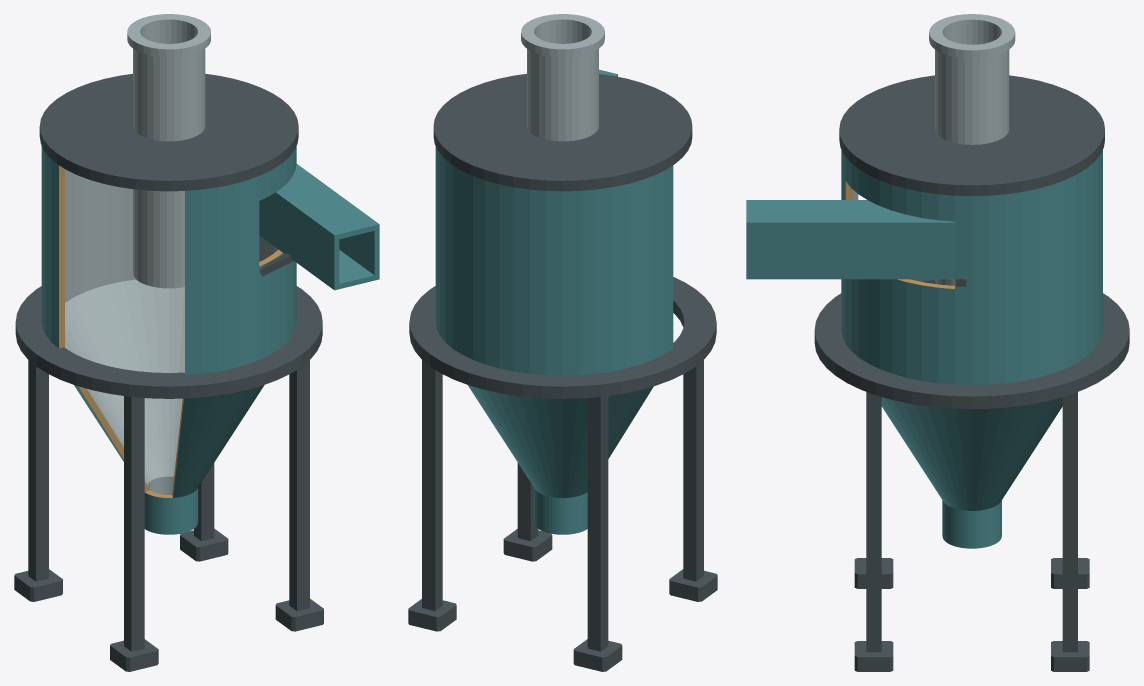
The picture shows the model from 3 angles, left to right: view 1: azimuth 30°, elevation 25°; view 2: azimuth 150°, elevation 25°; view 3: azimuth 270°, elevation 25°; orthographic projection. The views are drawn at different scales.
Visible parts, largest first — view 1: WholeCutawayCylinderConeAndLowerNeck, WholeAnnularTopPlate, WholeDeepAxialOutletTube, WholeAnnularLegBearingCollar, WholeOffsetRectangularInlet, WholeSupportLeg_0, WholeSupportLeg_1, WholeSupportLeg_3, WholeSupportLeg_2, WholeGroundFoot_0, WholeGroundFoot_1, WholeGroundFoot_2 (+1 smaller); view 2: WholeCutawayCylinderConeAndLowerNeck, WholeAnnularTopPlate, WholeAnnularLegBearingCollar, WholeDeepAxialOutletTube, WholeSupportLeg_3, WholeSupportLeg_2, WholeSupportLeg_0, WholeSupportLeg_1, WholeGroundFoot_3, WholeGroundFoot_1, WholeGroundFoot_0, WholeGroundFoot_2; view 3: WholeCutawayCylinderConeAndLowerNeck, WholeAnnularTopPlate, WholeOffsetRectangularInlet, WholeAnnularLegBearingCollar, WholeDeepAxialOutletTube, WholeSupportLeg_1, WholeSupportLeg_2, WholeGroundFoot_1, WholeGroundFoot_2, WholeGroundFoot_0, WholeGroundFoot_3.
Part boxes in pixels (bbox=[...]): WholeCutawayCylinderConeAndLowerNeck: bbox=[41, 146, 296, 534]; WholeAnnularTopPlate: bbox=[39, 73, 298, 191]; WholeDeepAxialOutletTube: bbox=[127, 14, 210, 288]; WholeAnnularLegBearingCollar: bbox=[15, 286, 322, 398]; WholeOffsetRectangularInlet: bbox=[259, 164, 379, 290]; WholeSupportLeg_0: bbox=[124, 396, 144, 651]; WholeSupportLeg_1: bbox=[289, 360, 309, 610]; WholeSupportLeg_3: bbox=[28, 360, 48, 581]; WholeSupportLeg_2: bbox=[194, 463, 214, 541]; WholeGroundFoot_0: bbox=[110, 639, 158, 671]; WholeGroundFoot_1: bbox=[275, 599, 323, 631]; WholeGroundFoot_2: bbox=[180, 528, 228, 561]; WholeCutawayCylinderConeAndLowerNeck: bbox=[435, 146, 673, 534]; WholeAnnularTopPlate: bbox=[433, 73, 692, 191]; WholeAnnularLegBearingCollar: bbox=[409, 277, 716, 398]; WholeDeepAxialOutletTube: bbox=[521, 14, 604, 141]; WholeSupportLeg_3: bbox=[587, 396, 608, 651]; WholeSupportLeg_2: bbox=[422, 360, 442, 610]; WholeSupportLeg_0: bbox=[683, 360, 703, 581]; WholeSupportLeg_1: bbox=[517, 462, 538, 541]; WholeGroundFoot_3: bbox=[573, 639, 622, 671]; WholeGroundFoot_1: bbox=[503, 529, 552, 561]; WholeGroundFoot_0: bbox=[669, 569, 717, 601]; WholeGroundFoot_2: bbox=[408, 599, 456, 631]; WholeCutawayCylinderConeAndLowerNeck: bbox=[841, 150, 1102, 548]; WholeAnnularTopPlate: bbox=[839, 75, 1104, 196]; WholeOffsetRectangularInlet: bbox=[746, 200, 954, 279]; WholeAnnularLegBearingCollar: bbox=[814, 279, 1129, 409]; WholeDeepAxialOutletTube: bbox=[929, 14, 1015, 285]; WholeSupportLeg_1: bbox=[866, 392, 881, 652]; WholeSupportLeg_2: bbox=[1062, 392, 1077, 652]; WholeGroundFoot_1: bbox=[854, 641, 893, 671]; WholeGroundFoot_2: bbox=[1051, 641, 1089, 671]; WholeGroundFoot_0: bbox=[854, 558, 893, 588]; WholeGroundFoot_3: bbox=[1051, 558, 1089, 588].
Size of the model in its own units: 1.06 by 2.19 by 1.29.
